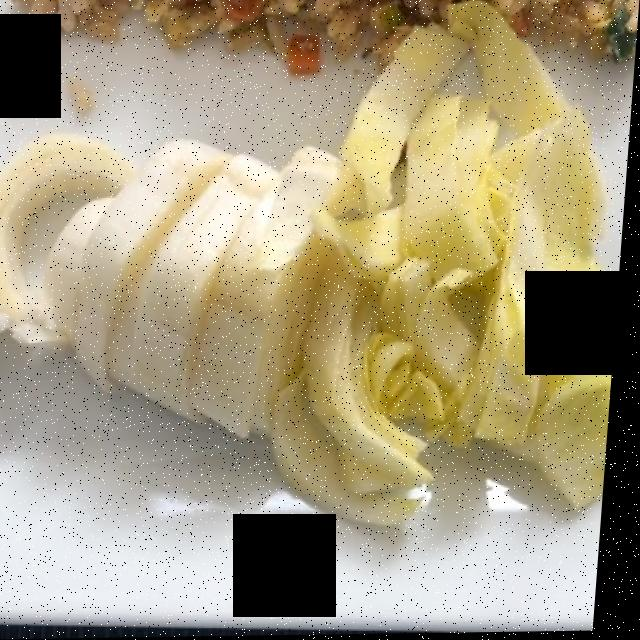witloof-chicory: (8, 15, 576, 535)
